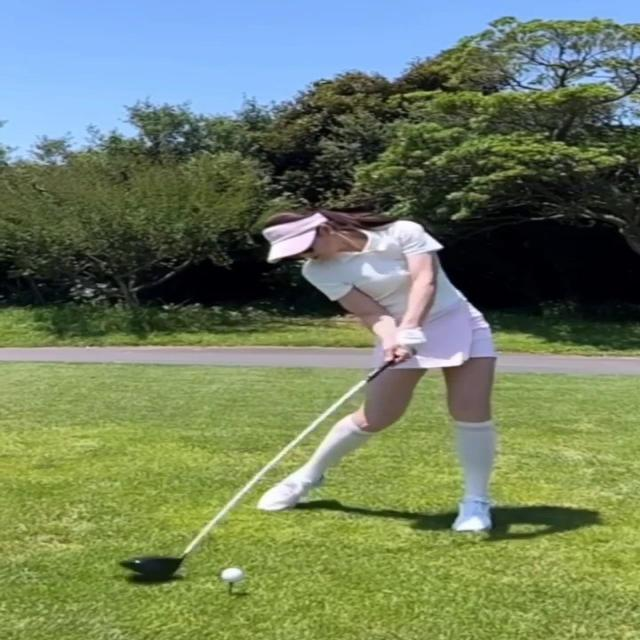golf ball: (221, 569, 243, 581)
golf club-handle: (119, 357, 391, 577)
golf club-head: (119, 555, 179, 577)
